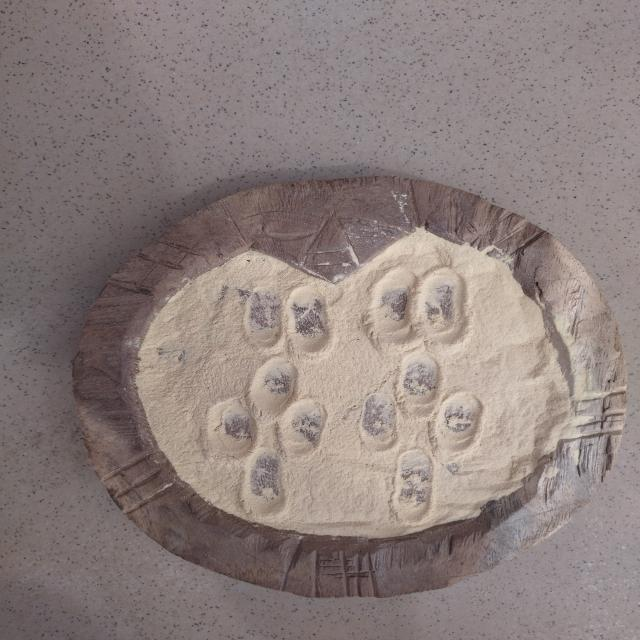double: (369, 266, 471, 348), (357, 392, 487, 454), (208, 398, 330, 458), (243, 284, 334, 358)
single: (237, 448, 291, 520), (393, 448, 436, 527), (251, 358, 302, 421), (399, 350, 441, 420)
